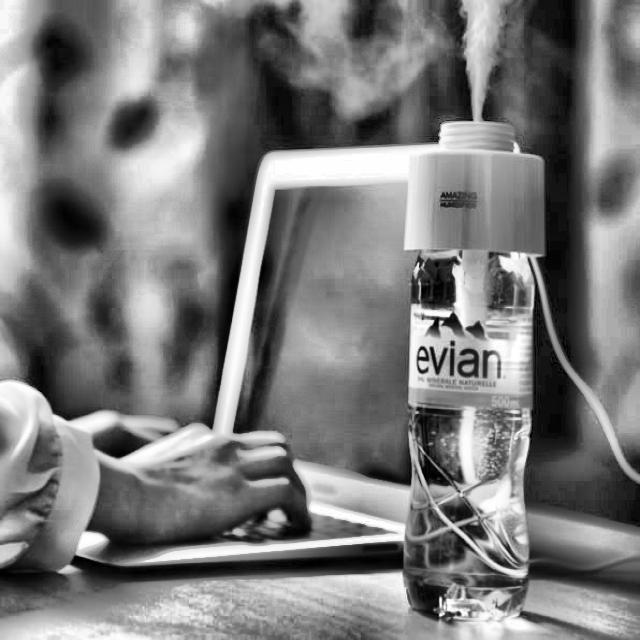waterbottle: (395, 101, 556, 637)
